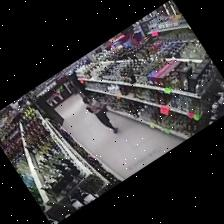person: (83, 96, 118, 132)
